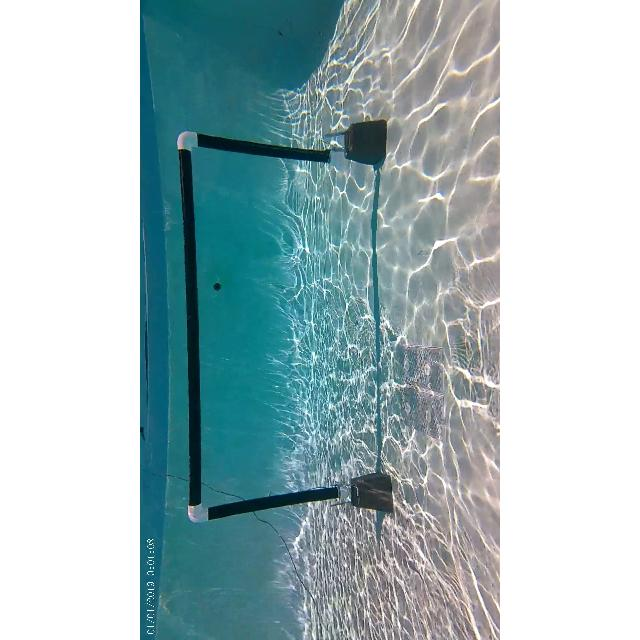prequal gate: (177, 128, 351, 524)
prequal gate leg l: (175, 476, 365, 520)
prequal gate leg r: (179, 128, 339, 166)
